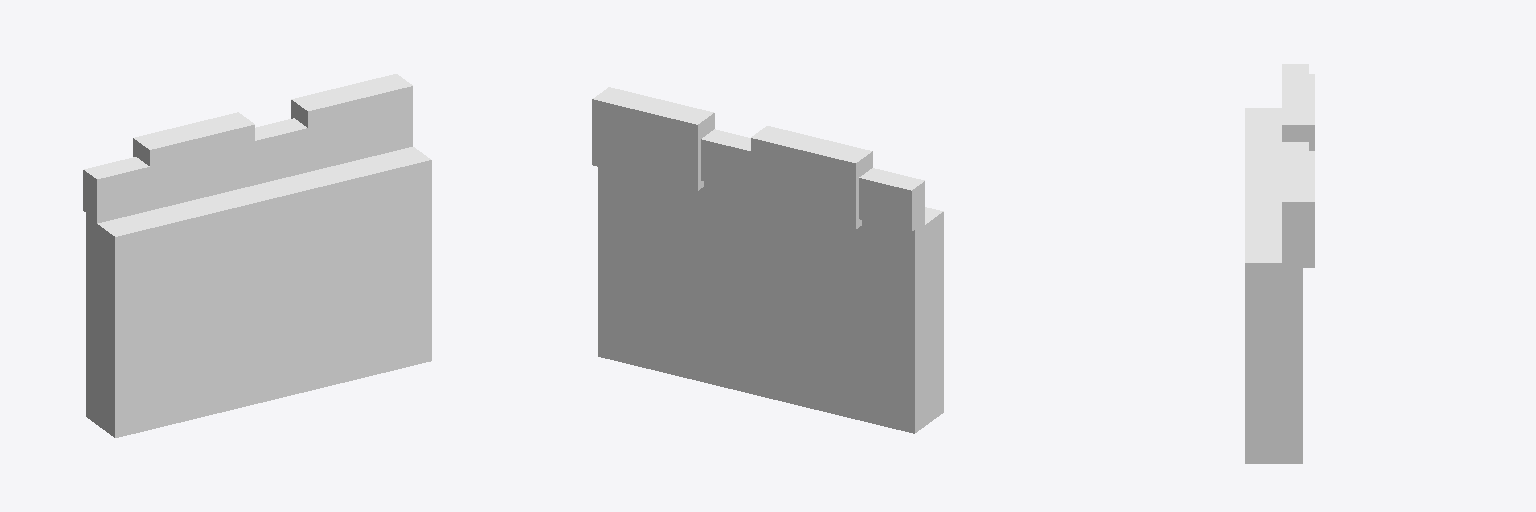
The model's file is mur.obj.
The picture shows the model from 3 angles: view 1: azimuth 30°, elevation 25°; view 2: azimuth 150°, elevation 25°; view 3: azimuth 270°, elevation 25°; orthographic projection.
Visible parts, largest first — view 1: object 1; view 2: object 1; view 3: object 1.
Part boxes in pixels (bbox=[...]): object 1: bbox=[83, 74, 431, 437]; object 1: bbox=[592, 87, 943, 433]; object 1: bbox=[1245, 64, 1314, 463].
Bounding box in the file's own units: 12 × 9.5 × 2.3.